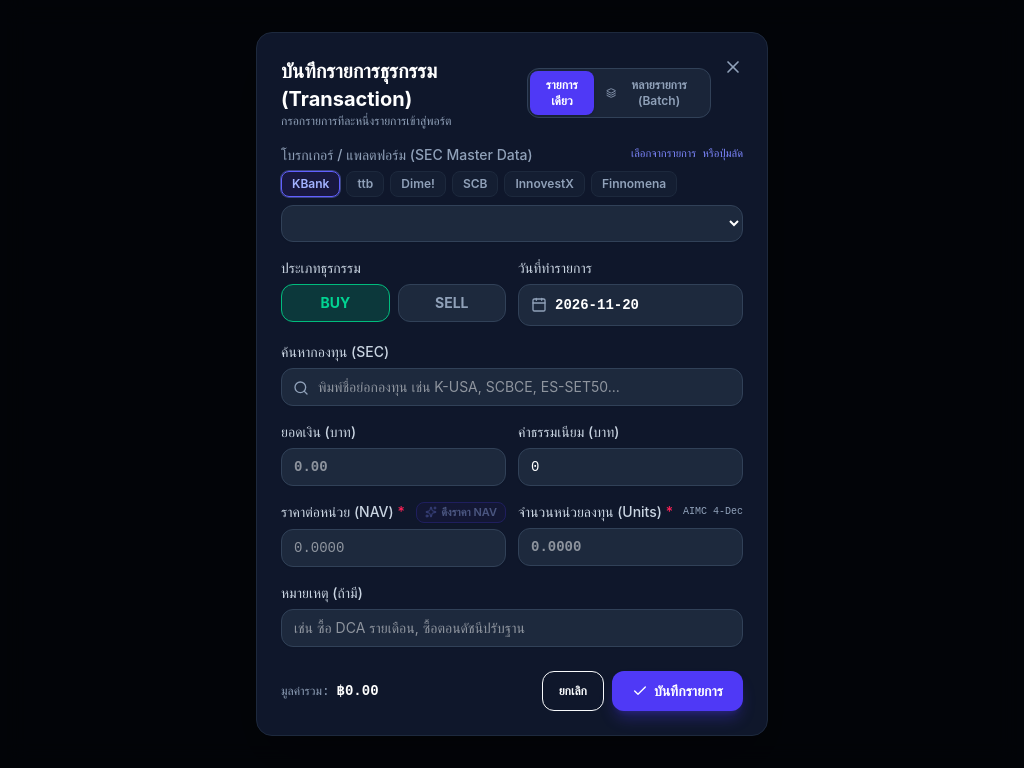
Test case: TransactionModal Submission and Real-time Calculation › successfully submits when user enters Total Amount & Unit Price (auto-computes units)
Later steps or results of the test are not shown.
Note: Enter fund
Type "SCBS&P500E" into the field with placeholder "พิมพ์ชื่อย่อกองทุน เช่น K-USA, SCBCE, ES-SET50...". click: (512, 387)
box: [281, 368, 743, 406]
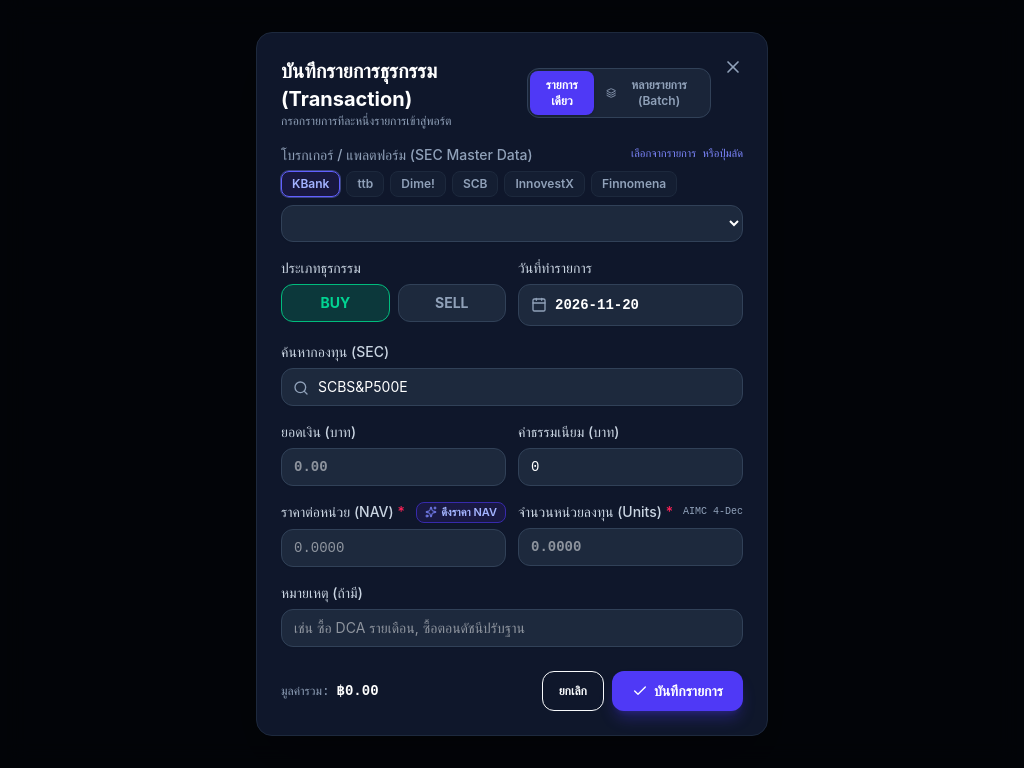
Type "1000" into the number field with placeholder "0.00". click: (394, 467)
box: [281, 448, 506, 486]
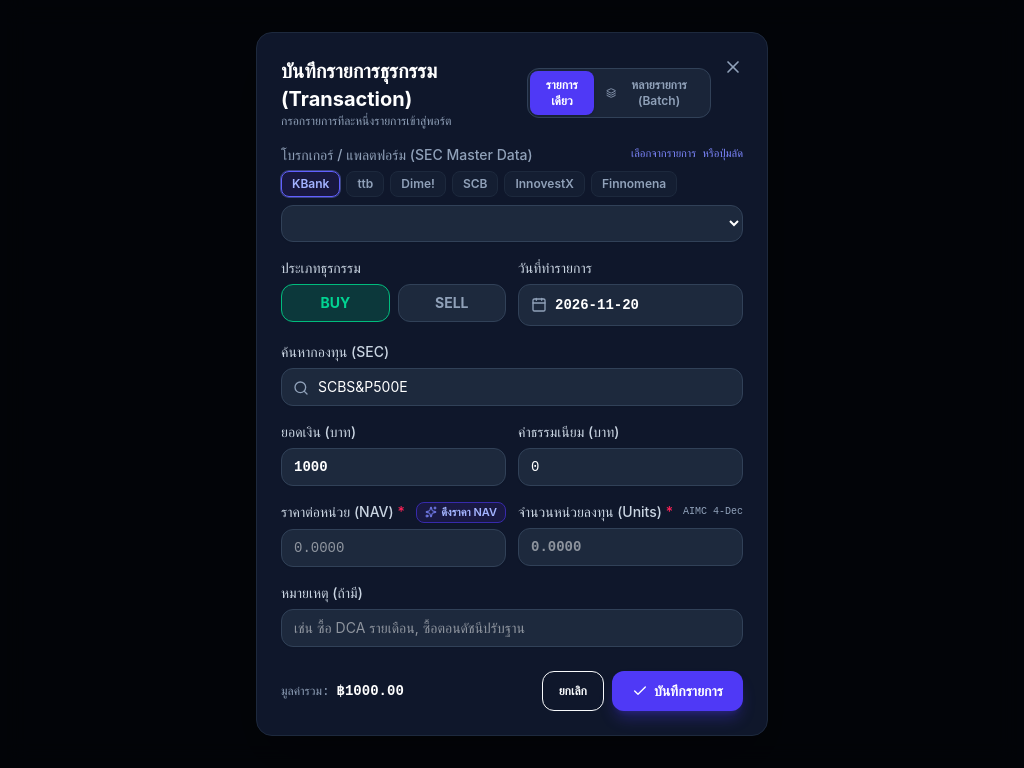
Type "40.5673" into the number field with placeholder "0.0000" below "ราคาต่อหน่วย (NAV)". click: (394, 548)
box: [281, 529, 506, 567]
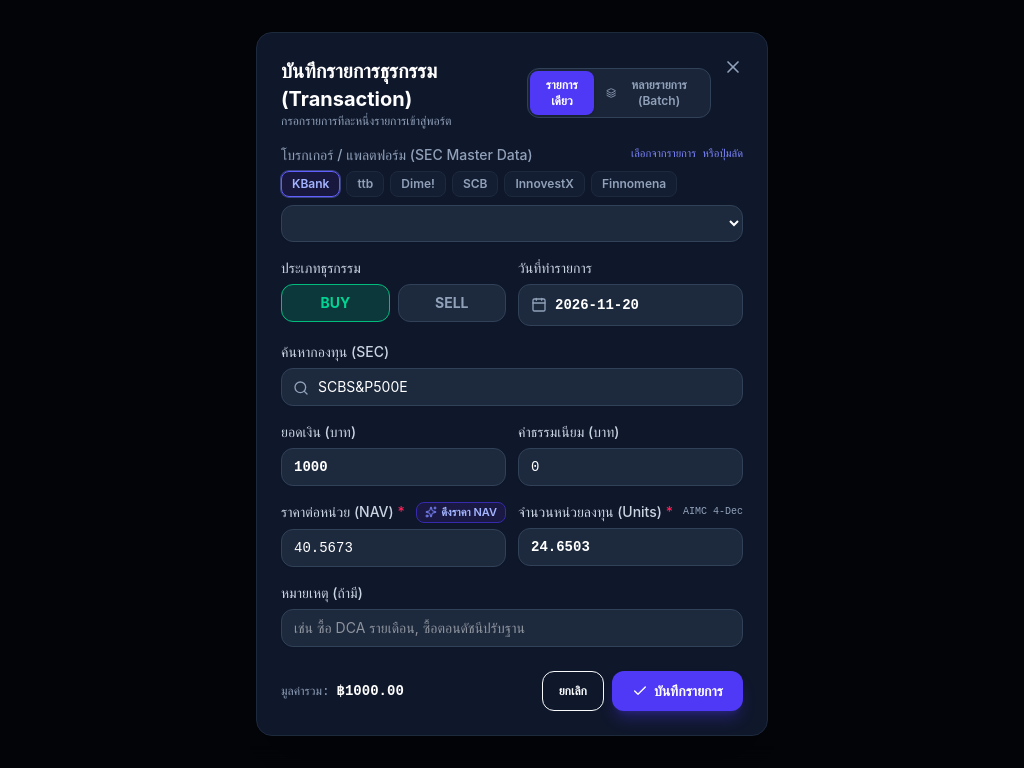
Now the number field with placeholder "0.0000" below "จำนวนหน่วยลงทุน (Units)" holds "24.6503", box [518, 528, 743, 566]
